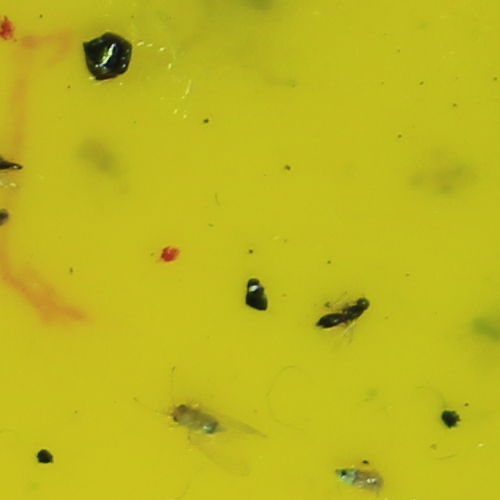Glycaspis: (169, 403, 225, 438)
